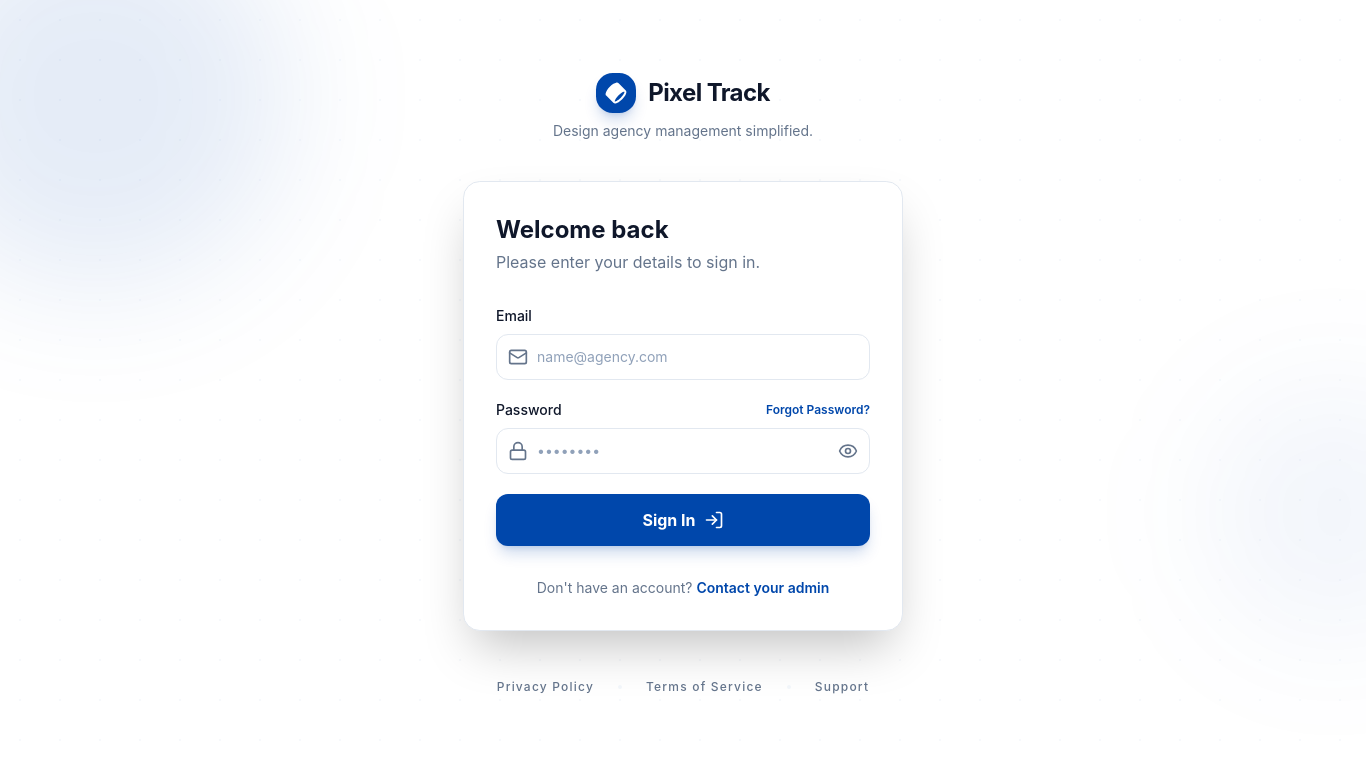
Scenario: LoginPage › shows an email validation error when email is empty and form is submitted
The width and height of the screenshot is (1366, 768).
Step 1. Click the button "Sign In" → x=683, y=520, box left=496, top=494, right=870, bottom=546
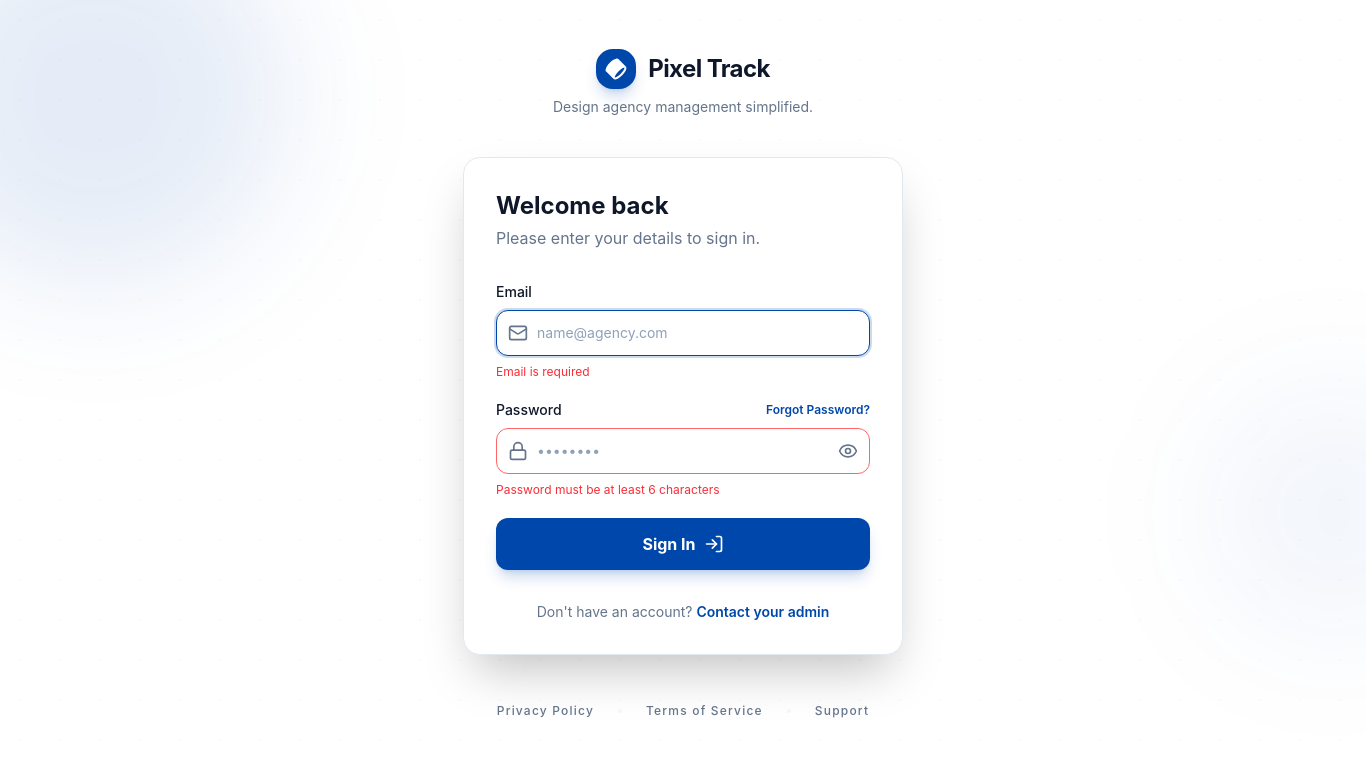
Check: the text "Email is required" is shown, box left=496, top=364, right=590, bottom=379
